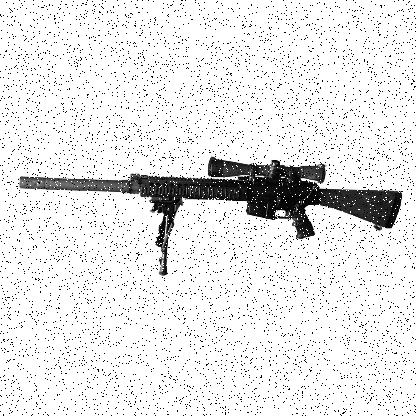gun: (18, 156, 402, 274)
